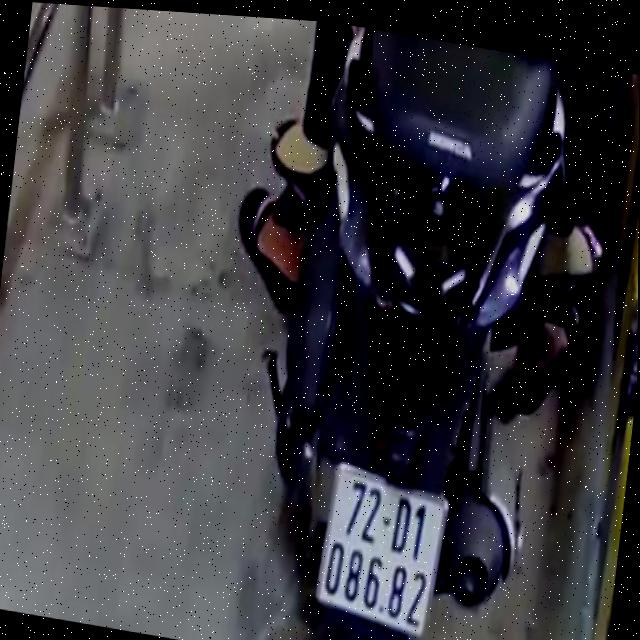motorcycle: (222, 15, 577, 640)
plate: (302, 453, 450, 640)
